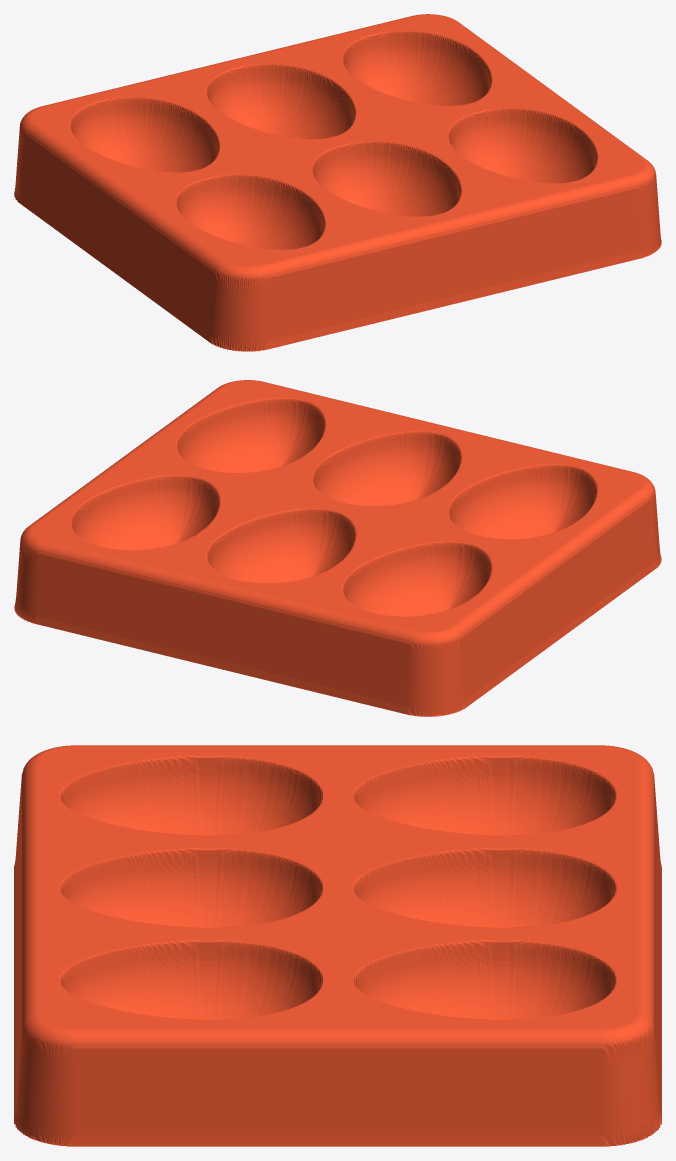
Rendered from mold.glb.
3 views of the same model, one above another, from view 1: azimuth 30°, elevation 25°; view 2: azimuth 150°, elevation 25°; view 3: azimuth 270°, elevation 25° (orthographic). The views are drawn at different scales.
Visible parts, largest first — view 1: geometry_0; view 2: geometry_0; view 3: geometry_0.
Part boxes in pixels (bbox=[...]): geometry_0: bbox=[14, 14, 661, 351]; geometry_0: bbox=[14, 380, 661, 716]; geometry_0: bbox=[14, 745, 661, 1146].
Size of the model in its own units: 0.1054 by 0.0175 by 0.0955.
